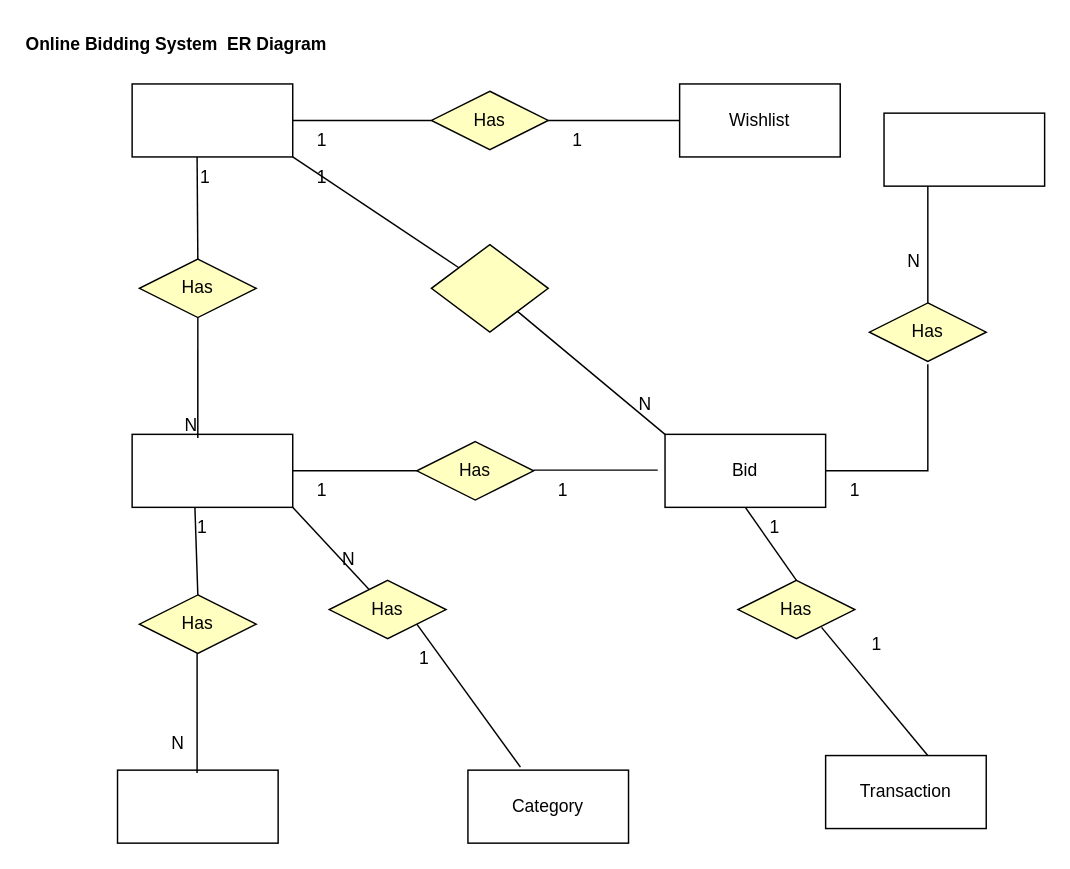
Image size: 1070x869. Some labels were removed from this diagram. The box of each missing label's shape, as (x1, y1, x2, y2) in pixels:
Bid Details: (883, 112, 1045, 186)
Buy: (430, 243, 548, 332)
Product: (131, 433, 293, 507)
Product Details: (116, 769, 278, 843)
User: (131, 82, 293, 157)
